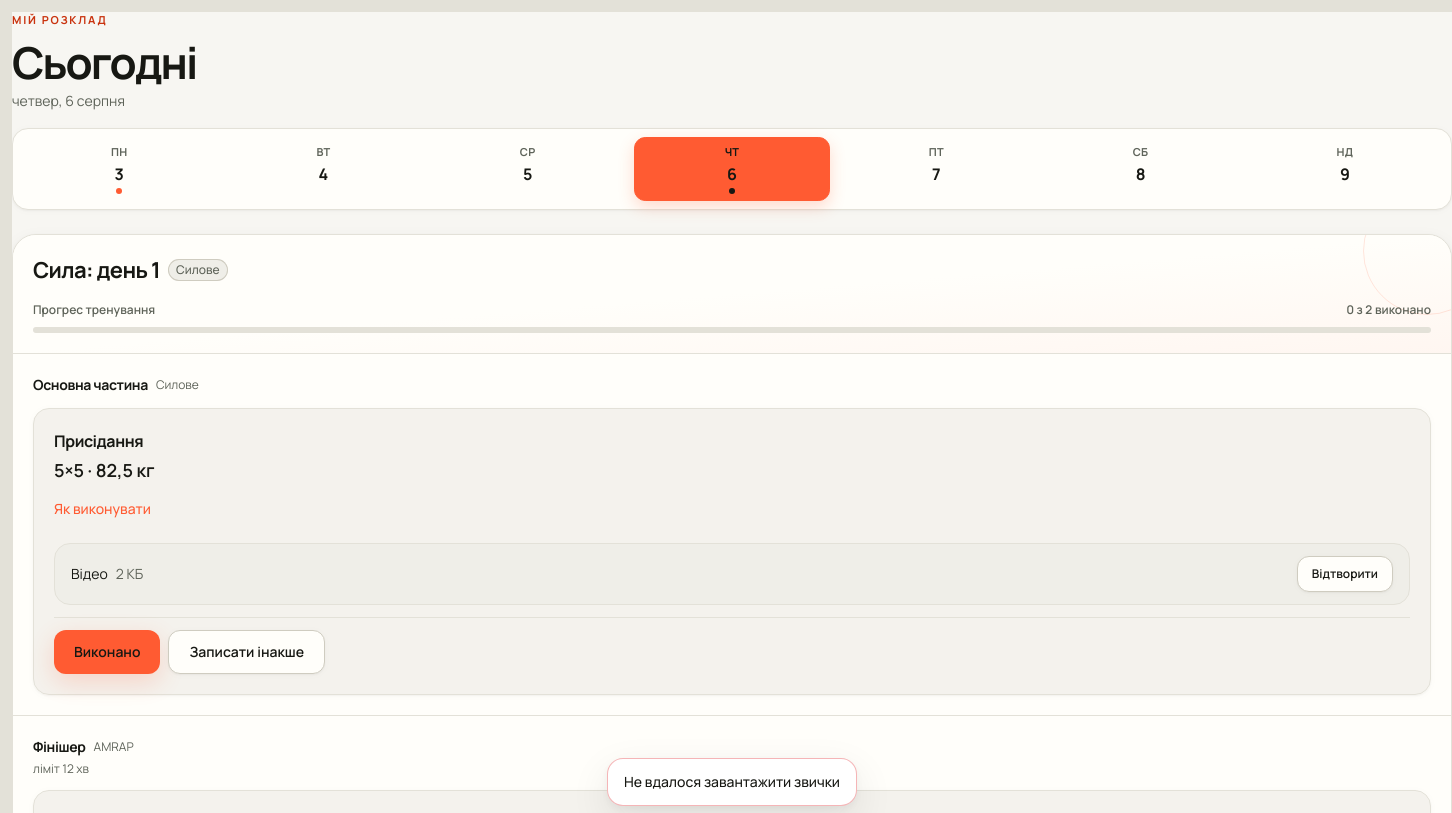
it: ClientHomePage («Сьогодні») › opens the technique notes on demand
Expected: the heading "Присідання" is shown, [54,430,143,452]
Expected: the text "Спина рівна, коліна за носками." is not shown
Click the button "Як виконувати". click: (102, 509)
box: [54,487,151,531]
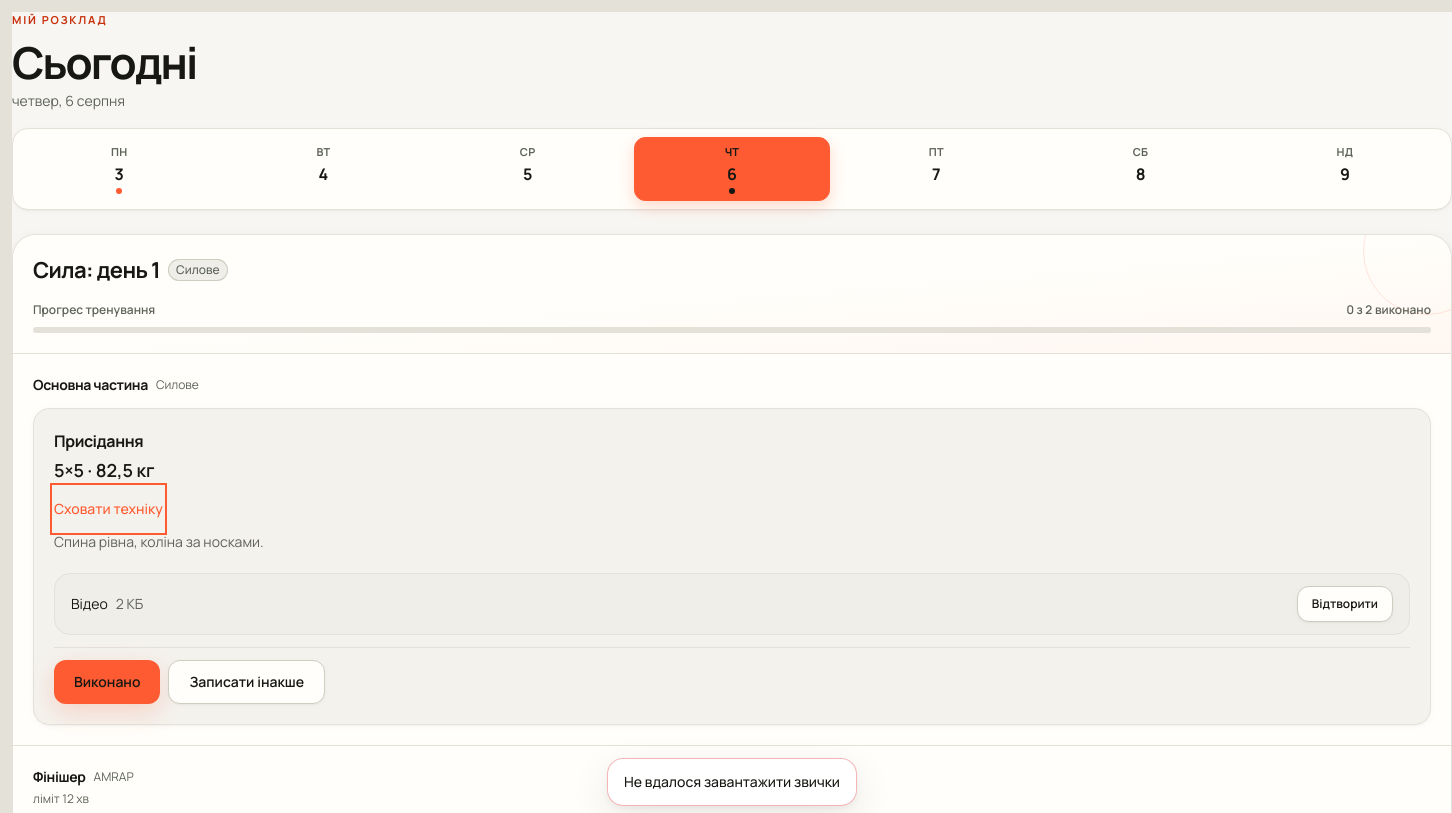
Result: the text "Спина рівна, коліна за носками." is shown at [54,532,264,551]
